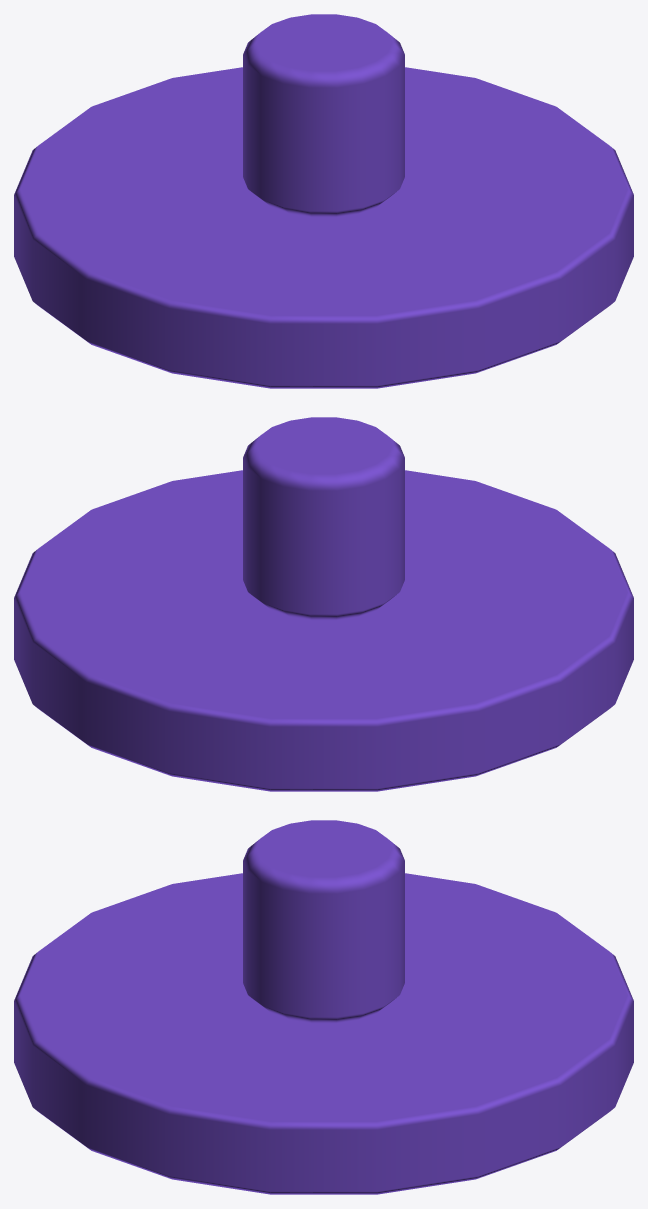
Rendered from fx-magic.4135c67d.glb.
3 views of the same model, one above another, from view 1: azimuth 30°, elevation 25°; view 2: azimuth 150°, elevation 25°; view 3: azimuth 270°, elevation 25° (orthographic).
Parts seen in each view (by area): view 1: body; view 2: body; view 3: body.
Part boxes in pixels (x1,y1,x2,y2): body: [14, 14, 633, 388]; body: [14, 417, 633, 791]; body: [14, 820, 633, 1194].
Size of the model in its own units: 0.453 by 0.18 by 0.46.
